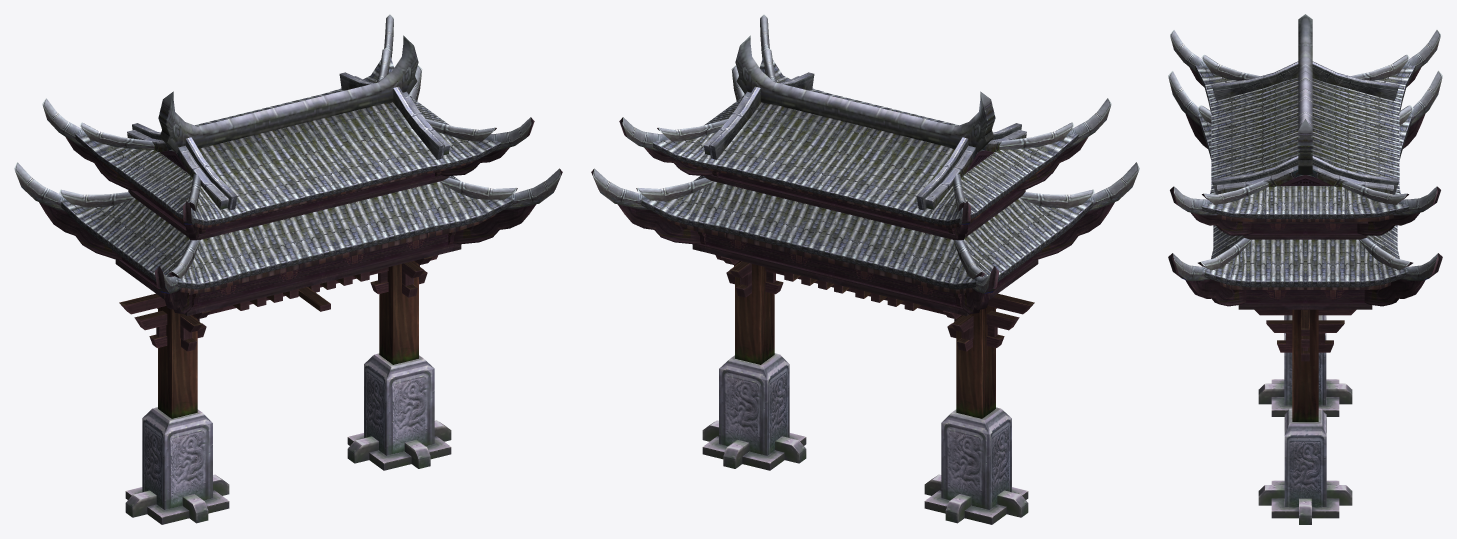
File: SWDS_building_05.FBX
3 renders of one model, left to right at view 1: azimuth 30°, elevation 25°; view 2: azimuth 150°, elevation 25°; view 3: azimuth 270°, elevation 25°, orthographic. The views are drawn at different scales.
Parts seen in each view (by area): view 1: SWDS_building_05; view 2: SWDS_building_05; view 3: SWDS_building_05.
Boxes of the visible parts, x1=… form: SWDS_building_05: x1=14, y1=14, x2=562, y2=524; SWDS_building_05: x1=591, y1=14, x2=1139, y2=524; SWDS_building_05: x1=1168, y1=14, x2=1442, y2=524.
Bounding box in the file's own units: 1968 × 1904 × 1228.
